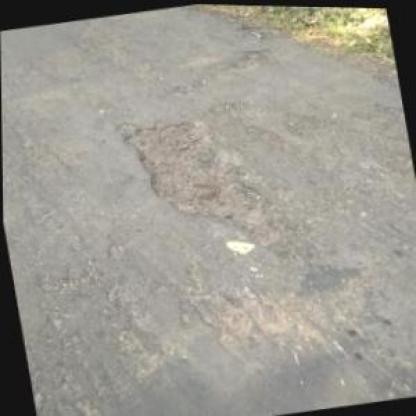pothole: (114, 98, 277, 245), (236, 40, 274, 68)
